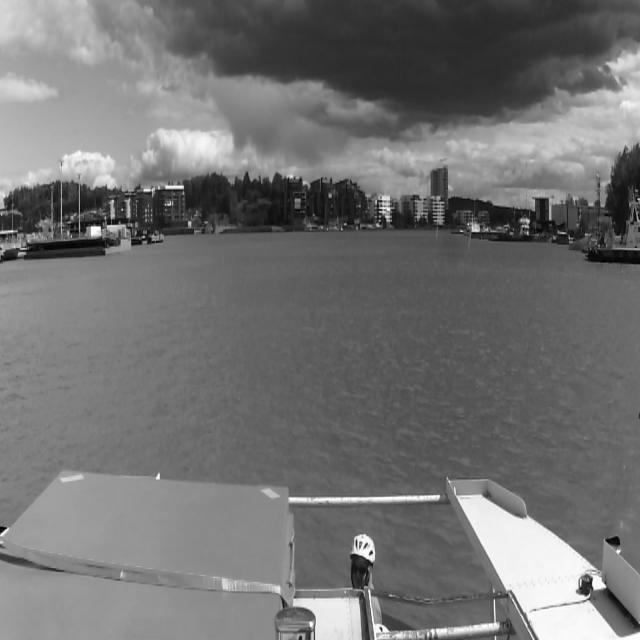ship: (588, 190, 638, 260), (374, 223, 382, 233)
